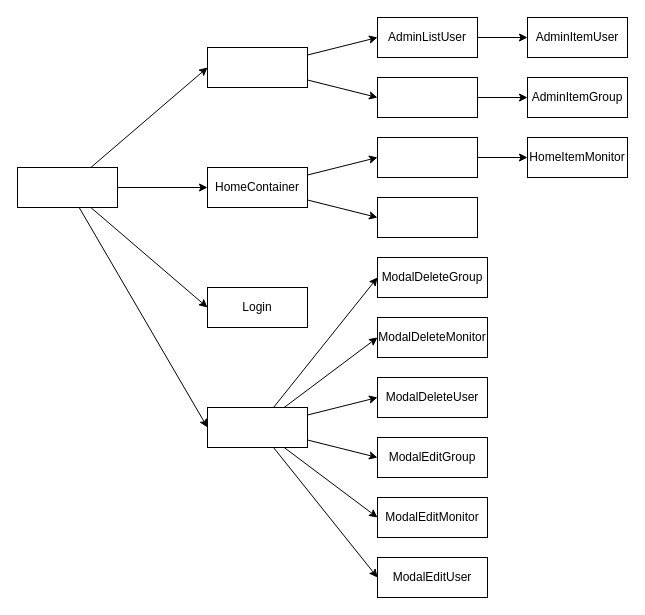
This 645x615 diagram has some shape labels left out. The centre of each missing label's shape, as x and y in pixels:
AdminContainer: (x=257, y=67)
AdminListGroup: (x=427, y=97)
App: (x=67, y=187)
HomeListMonitor: (x=427, y=157)
HomeMenu: (x=427, y=217)
ModalContainer: (x=257, y=427)
